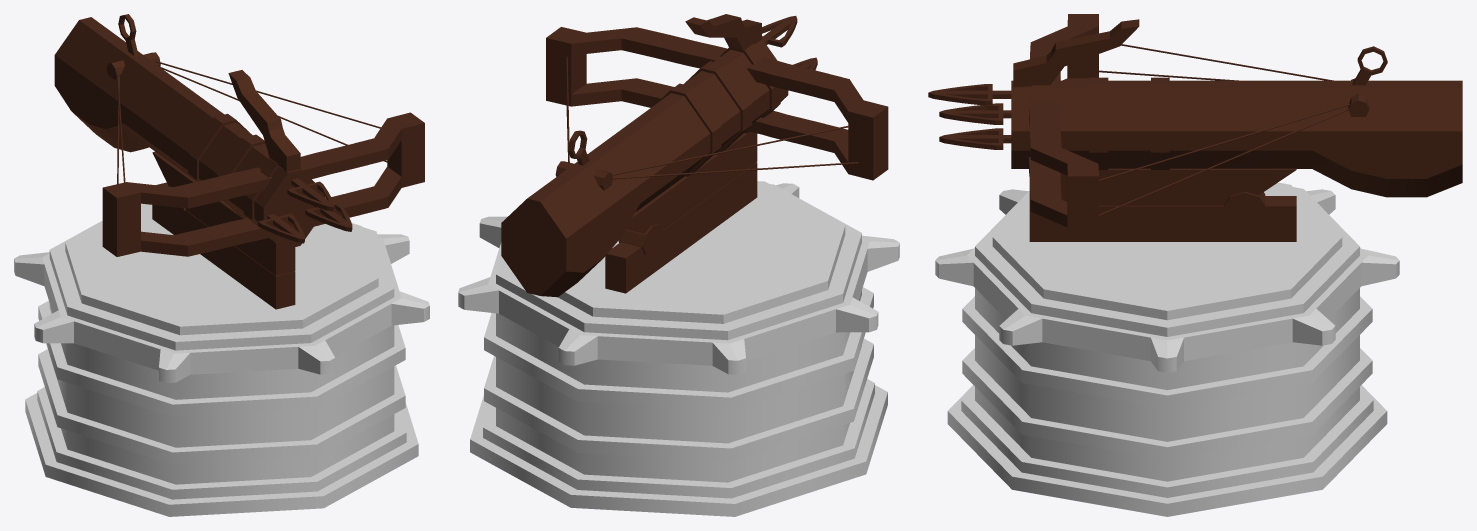
File: darkness_tower_arrow3.FBX
3 views of the same model, side by side, from view 1: azimuth 30°, elevation 25°; view 2: azimuth 150°, elevation 25°; view 3: azimuth 270°, elevation 25° (orthographic). The views are drawn at different scales.
Parts seen in each view (by area): view 1: platform_bow3, bow3; view 2: platform_bow3, bow3; view 3: platform_bow3, bow3.
Part boxes in pixels (x1,y1,x2,y2): platform_bow3: [14, 203, 429, 516]; bow3: [54, 14, 424, 309]; platform_bow3: [458, 181, 899, 516]; bow3: [501, 14, 888, 297]; platform_bow3: [935, 182, 1399, 516]; bow3: [928, 14, 1462, 241].
Bounding box in the file's own units: 9 × 8.58 × 10.35.
